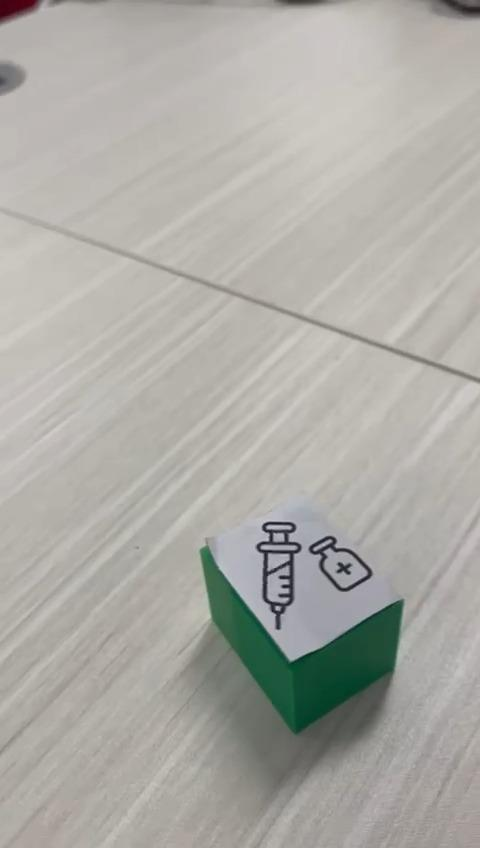antiseptic cream: (198, 492, 405, 734)
